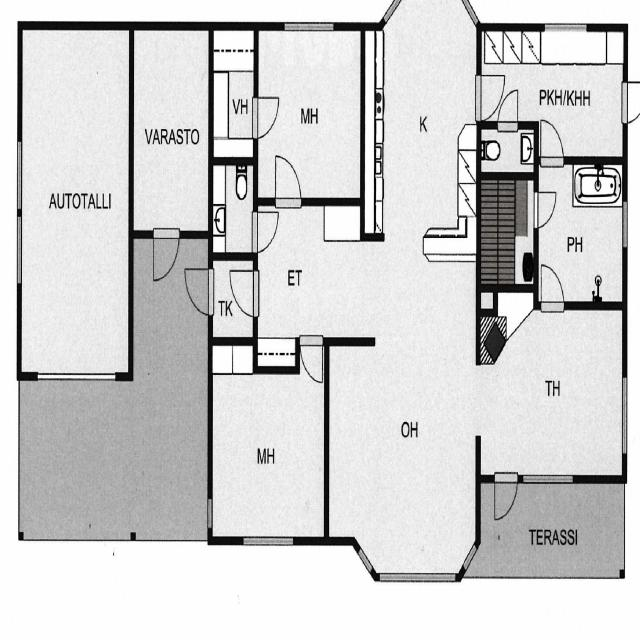door: (275, 152, 301, 206), (227, 271, 258, 316), (154, 230, 179, 284), (182, 270, 212, 314), (476, 76, 506, 120), (541, 260, 564, 310), (252, 98, 280, 138), (495, 475, 518, 523), (252, 212, 280, 251), (541, 116, 563, 164), (301, 337, 322, 386), (498, 85, 518, 129), (534, 192, 558, 227), (623, 82, 640, 123)
